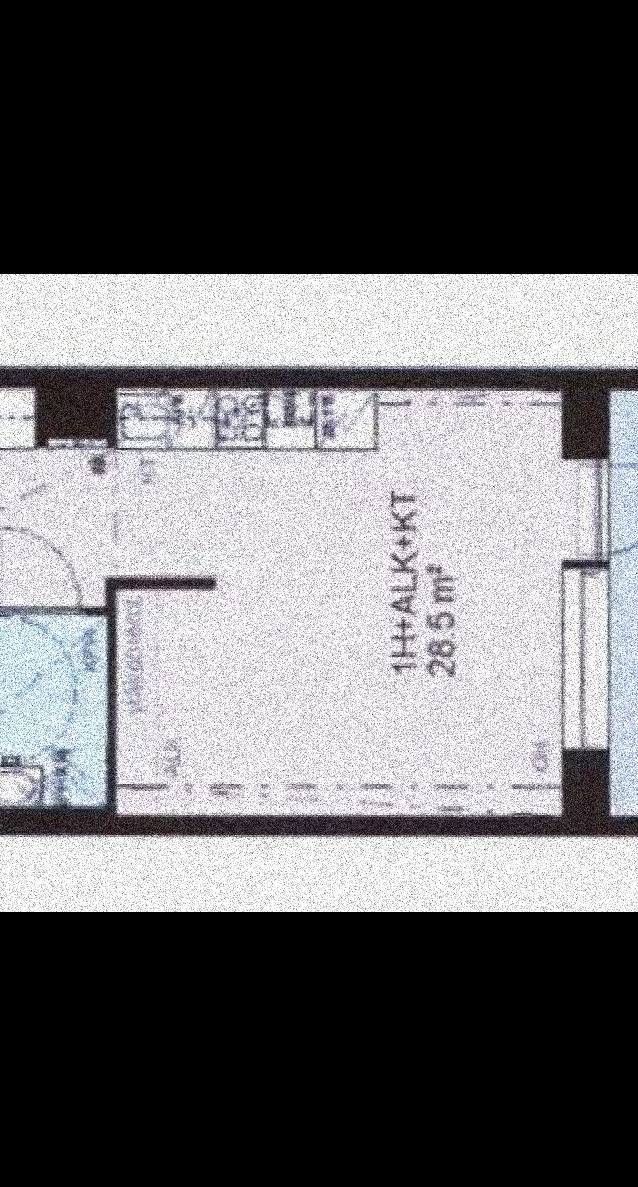door: (0, 527, 84, 603), (578, 457, 638, 561)
window: (556, 572, 610, 752)
zone: (116, 394, 590, 806), (0, 395, 114, 622), (0, 619, 106, 798)
